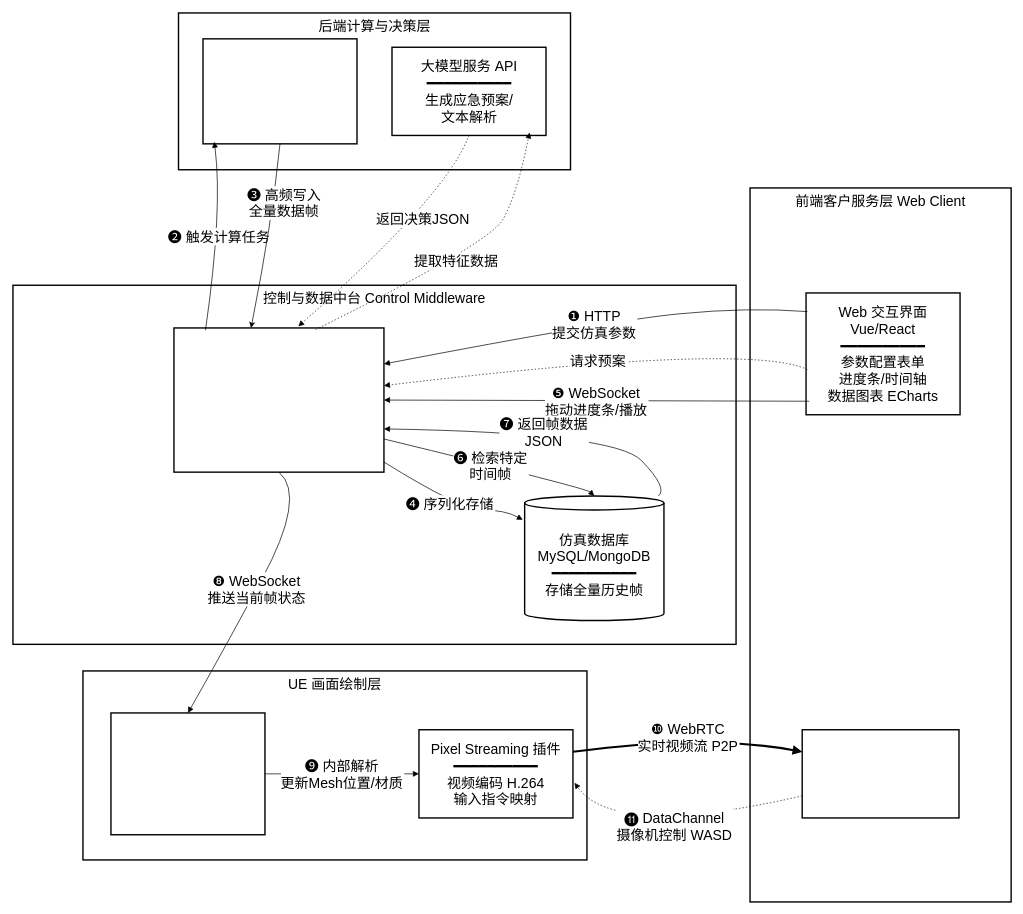
The diagram is 1023 pixels wide and 914 high, and some of its shapes have lost their labels. Each missing label, with the centre of its shape:
"Pixel Streaming 播放器 ━━━━━━━━━━ 视频流解码 键鼠事件捕获" belongs at point (880, 773).
"UE4 客户端 后台运行 ━━━━━━━━━━ 场景渲染 动画状态机更新 摄像机漫游逻辑" belongs at point (187, 773).
"中控服务 Node.js/Python ━━━━━━━━━━ 状态机管理 进度调度器 信令服务 Signaling" belongs at point (278, 399).
"仿真计算引擎 Python/Java ━━━━━━━━━━ 流体/烟雾计算/ 人群 Agent 行为" belongs at point (279, 91).
